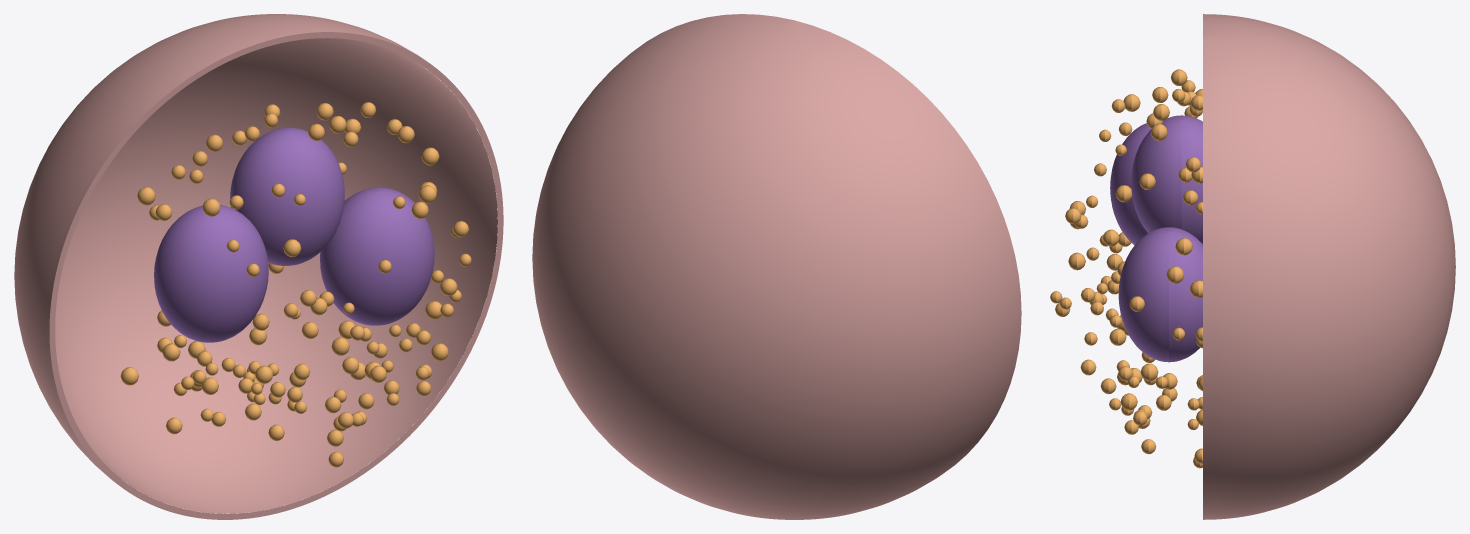
The model's file is bio3d2-neutrophil.glb.
3 renders of one model, left to right at view 1: azimuth 30°, elevation 25°; view 2: azimuth 150°, elevation 25°; view 3: azimuth 270°, elevation 25°, orthographic. The views are drawn at different scales.
Parts seen in each view (by area): view 1: Cell boundary; explanatory viewing cut, Connected nuclear lobes, Illustrative cytoplasmic granules; view 2: Cell boundary; explanatory viewing cut; view 3: Cell boundary; explanatory viewing cut, Connected nuclear lobes, Illustrative cytoplasmic granules.
Part boxes in pixels (x1,y1,x2,y2): Cell boundary; explanatory viewing cut: (14, 14, 503, 519); Connected nuclear lobes: (154, 127, 434, 342); Illustrative cytoplasmic granules: (120, 102, 471, 467); Cell boundary; explanatory viewing cut: (532, 14, 1021, 519); Cell boundary; explanatory viewing cut: (1203, 14, 1455, 519); Connected nuclear lobes: (1110, 115, 1202, 362); Illustrative cytoplasmic granules: (1050, 69, 1202, 468).
Bounding box in the file's own units: 12 × 12 × 9.62.
